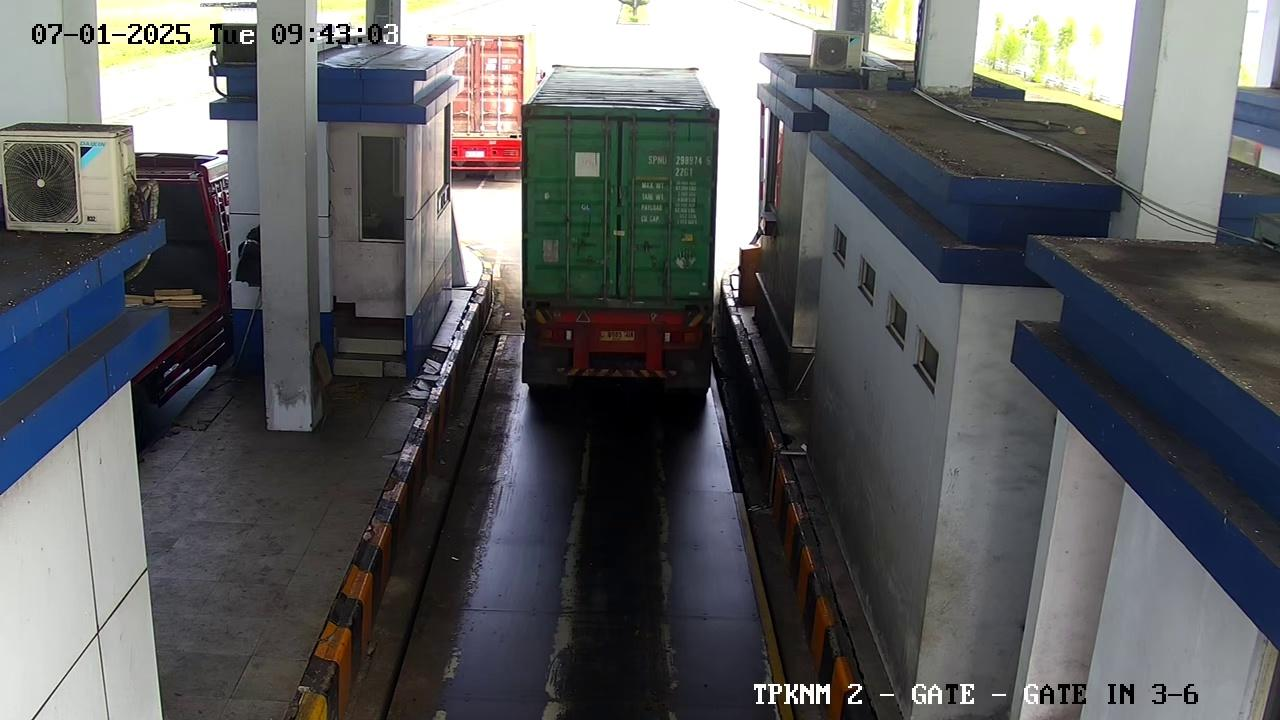Container_ID: (635, 143, 720, 182)
